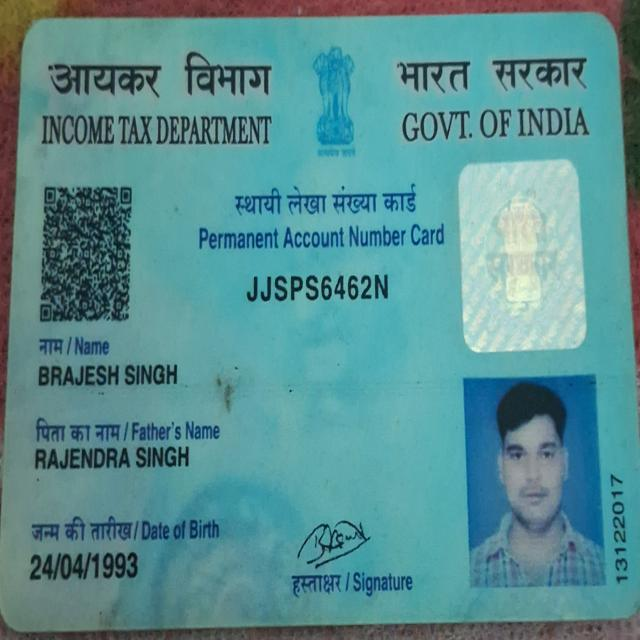pan_card: (3, 25, 638, 616)
